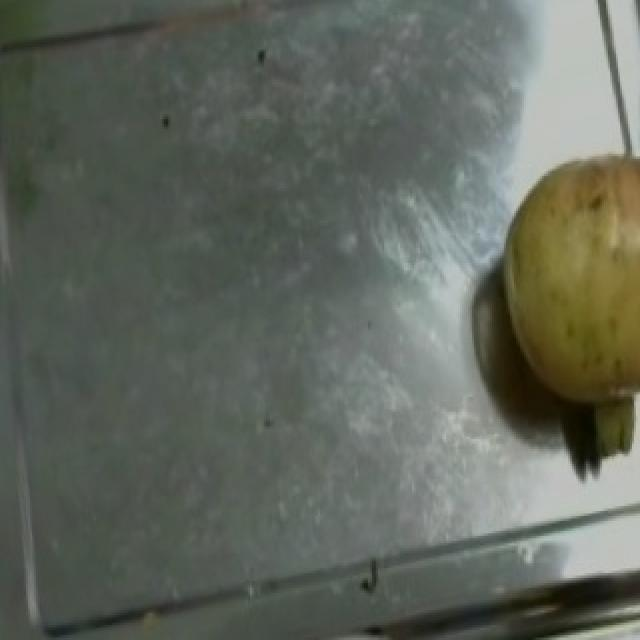fruit: (472, 124, 640, 360)
